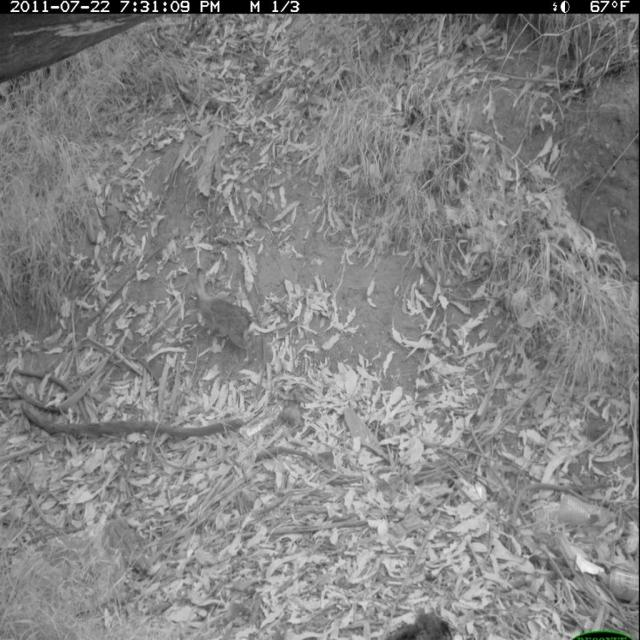rabbit: (179, 262, 266, 368)
